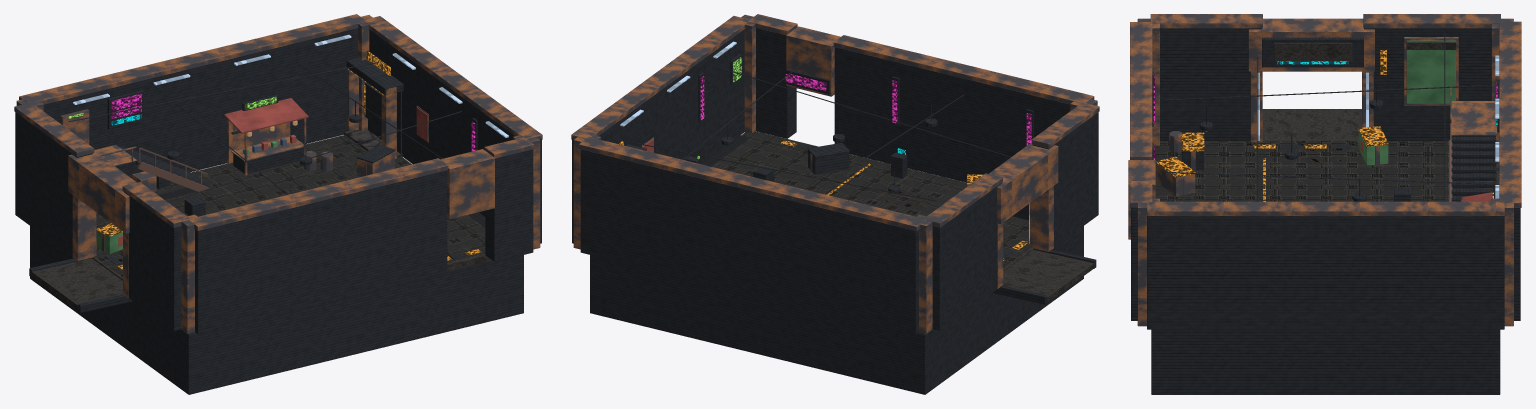
Rendered from Hesperus_DockCornerHub.glb.
3 renders of one model, left to right at view 1: azimuth 30°, elevation 25°; view 2: azimuth 150°, elevation 25°; view 3: azimuth 270°, elevation 25°, orthographic. The views are drawn at different scales.
Parts seen in each view (by area): view 1: HUB_Wall_S_A, HUB_Skirt_S, HUB_Wall_N, HUB_Plate_Floor, HUB_Wall_E, HUB_Wall_W_A, HUB_Skirt_W, HUB_Wall_W_B, HUB_Cap_N, HUB_Wall_S_B, HUB_Cap_SA, HUB_Cap_E (+29 smaller); view 2: HUB_Wall_N, HUB_Skirt_N, HUB_Wall_S_A, HUB_Plate_Floor, HUB_Wall_E, HUB_Wall_W_A, HUB_Skirt_W, HUB_Cap_N, HUB_Wall_W_B, HUB_Cap_SA, HUB_Wall_S_B, HUB_Cap_E (+14 smaller); view 3: HUB_Wall_E, HUB_Skirt_E, HUB_Plate_Floor, HUB_Wall_W_B, HUB_Wall_W_A, HUB_Cap_E, HUB_Cap_N, HUB_WGate_Header, HUB_Cap_SA, HUB_Apron, HUB_BigPoster, HUB_Cap_WA (+28 smaller).
Part boxes in pixels (bbox=[...]): HUB_Wall_S_A: bbox=[195, 170, 447, 334]; HUB_Skirt_S: bbox=[185, 256, 517, 394]; HUB_Wall_N: bbox=[43, 28, 357, 178]; HUB_Plate_Floor: bbox=[94, 135, 485, 276]; HUB_Wall_E: bbox=[369, 30, 541, 243]; HUB_Wall_W_A: bbox=[15, 112, 92, 256]; HUB_Skirt_W: bbox=[30, 228, 195, 394]; HUB_Wall_W_B: bbox=[124, 192, 181, 330]; HUB_Cap_N: bbox=[19, 14, 365, 104]; HUB_Wall_S_B: bbox=[485, 149, 533, 261]; HUB_Cap_SA: bbox=[188, 158, 448, 230]; HUB_Cap_E: bbox=[363, 16, 542, 139]; HUB_Wall_N: bbox=[580, 149, 918, 334]; HUB_Skirt_N: bbox=[590, 255, 928, 394]; HUB_Wall_S_A: bbox=[834, 47, 1070, 182]; HUB_Plate_Floor: bbox=[712, 131, 1031, 267]; HUB_Wall_E: bbox=[572, 29, 744, 243]; HUB_Wall_W_A: bbox=[932, 183, 1001, 330]; HUB_Skirt_W: bbox=[918, 227, 1083, 394]; HUB_Cap_N: bbox=[579, 137, 926, 231]; HUB_Wall_W_B: bbox=[1032, 112, 1098, 247]; HUB_Cap_SA: bbox=[833, 35, 1094, 104]; HUB_Wall_S_B: bbox=[756, 28, 796, 138]; HUB_Cap_E: bbox=[571, 16, 749, 139]; HUB_Wall_E: bbox=[1147, 216, 1504, 329]; HUB_Skirt_E: bbox=[1151, 329, 1500, 394]; HUB_Plate_Floor: bbox=[1153, 141, 1496, 201]; HUB_Wall_W_B: bbox=[1160, 28, 1261, 140]; HUB_Wall_W_A: bbox=[1364, 28, 1491, 140]; HUB_Cap_E: bbox=[1147, 201, 1504, 216]; HUB_Cap_N: bbox=[1499, 21, 1521, 207]; HUB_WGate_Header: bbox=[1248, 18, 1374, 71]; HUB_Cap_SA: bbox=[1130, 22, 1152, 159]; HUB_Apron: bbox=[1262, 109, 1361, 140]; HUB_BigPoster: bbox=[1406, 40, 1455, 103]; HUB_Cap_WA: bbox=[1363, 14, 1500, 28].
Size of the model in its own units: 30.76 by 12.53 by 23.1.
16 materials, 15 textured.
